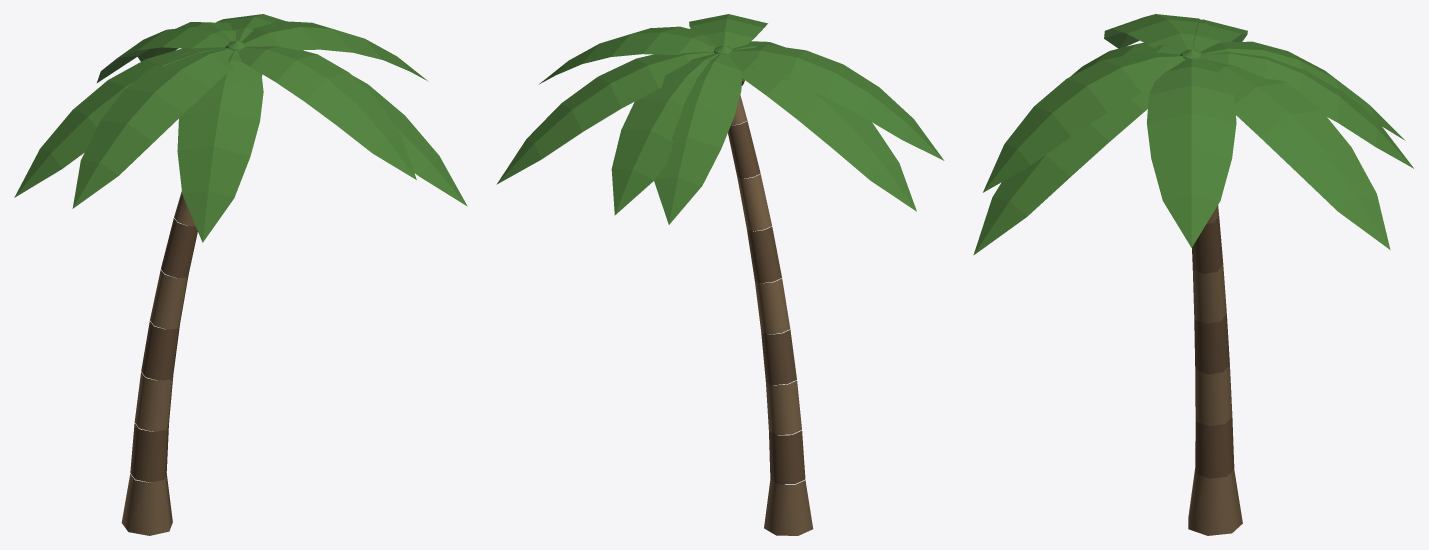
The model's file is palm_tree.glb.
3 renders of one model, left to right at view 1: azimuth 30°, elevation 25°; view 2: azimuth 150°, elevation 25°; view 3: azimuth 270°, elevation 25°, orthographic. The views are drawn at different scales.
Parts seen in each view (by area): view 1: Crown, Trunk; view 2: Crown, Trunk; view 3: Crown, Trunk.
Part boxes in pixels (x1,y1,x2,y2): Crown: (14, 14, 467, 242); Trunk: (121, 41, 245, 535); Crown: (496, 14, 944, 224); Trunk: (714, 45, 813, 535); Crown: (973, 14, 1413, 255); Trunk: (1180, 49, 1242, 535).
Size of the model in its own units: 5.67 by 6.34 by 4.91.
1 material, 1 textured.
